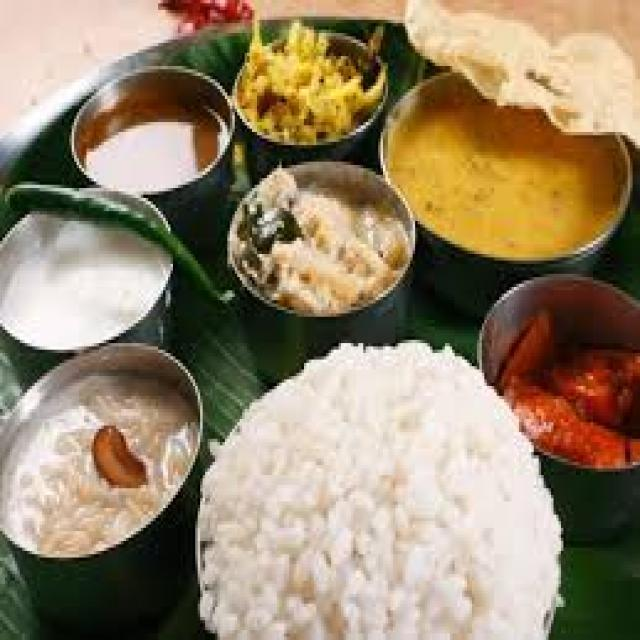curd: (1, 207, 182, 366)
dosa: (403, 0, 637, 171)
pickle: (15, 374, 193, 559), (499, 289, 640, 476)
rice: (178, 341, 558, 625)
sambar-rasam: (385, 75, 632, 275), (2, 210, 180, 357), (71, 63, 238, 204)
sweet: (7, 367, 198, 570)
veg-fry: (222, 149, 408, 326), (233, 6, 377, 163)
